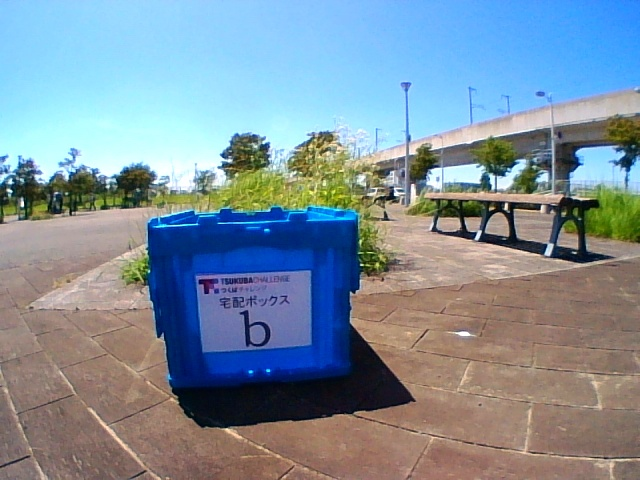blue_box: (172, 213, 344, 375)
tag_b: (207, 281, 284, 348)
